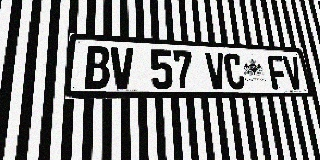5: (150, 49, 174, 89)
7: (172, 50, 195, 89)
B: (84, 46, 110, 89)
C: (223, 53, 246, 89)
F: (267, 55, 289, 89)
V: (110, 47, 134, 89), (205, 52, 227, 89), (282, 56, 304, 89)
